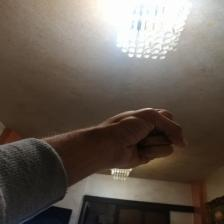five: (91, 106, 198, 177)
